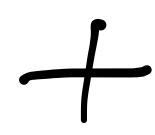plus: (17, 19, 151, 122)
